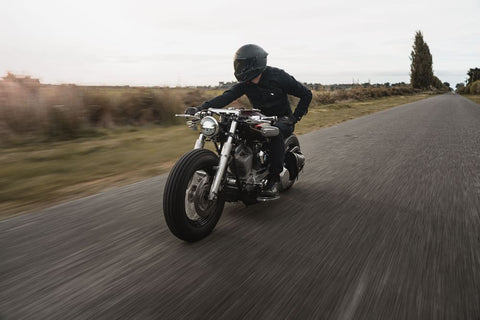Motorcycle: (148, 109, 326, 243)
Person: (199, 47, 312, 179)
Tree: (407, 29, 445, 97)
